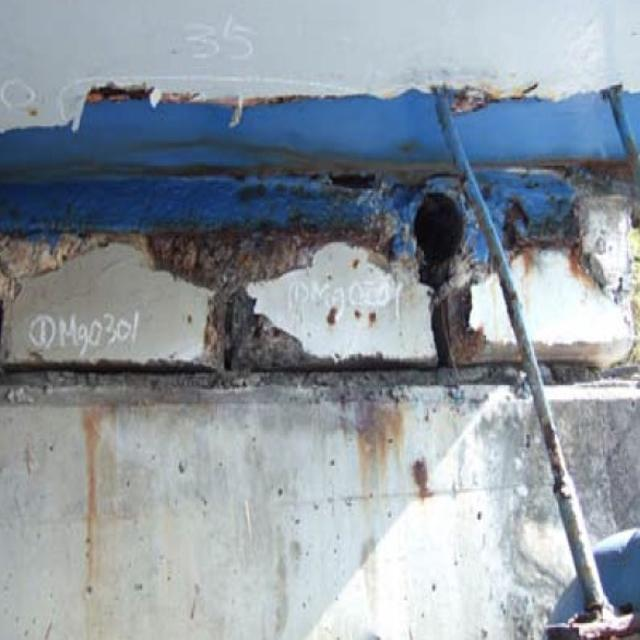spalling: (70, 74, 624, 394)
